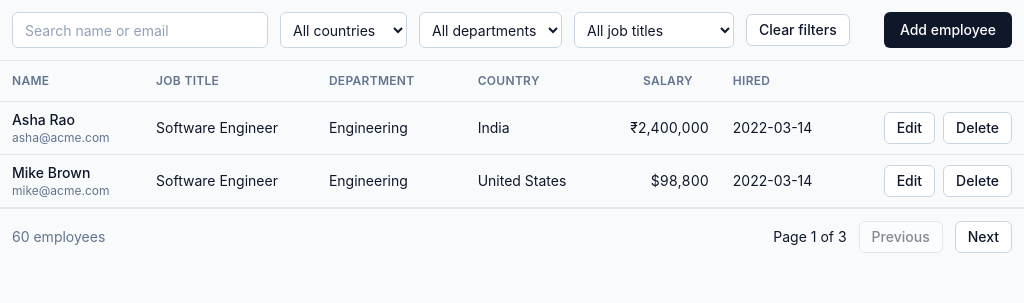
Test case: EmployeesPage › sorting › warns that salary sorting compares raw amounts until a country is chosen
The width and height of the screenshot is (1024, 303).
Step 1. Click the button "Salary" → (676, 81), box [643,73,709,89]
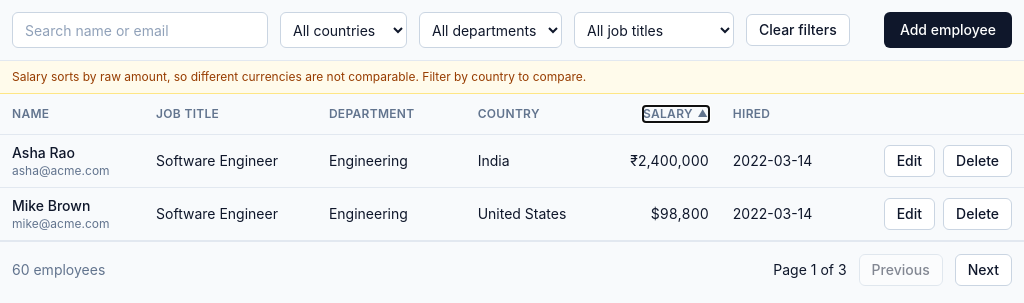
Check: the text "filter by country to compare" is shown, box [12,69,586,84]
Step 2. Select "India" in the dropdown named "country" → (344, 30), box [280,12,407,48]
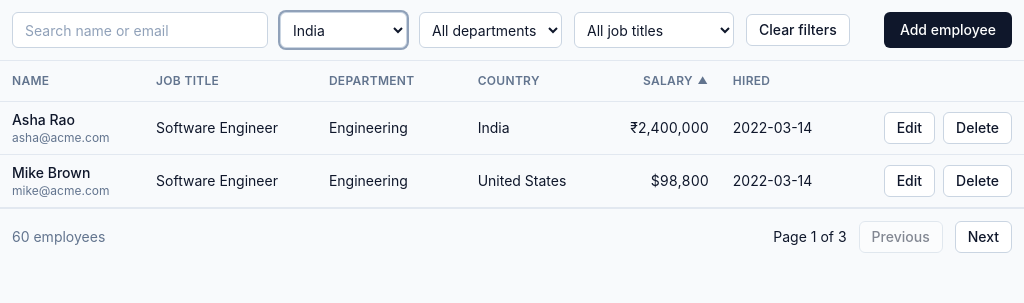
Check: the text "filter by country to compare" is gone
